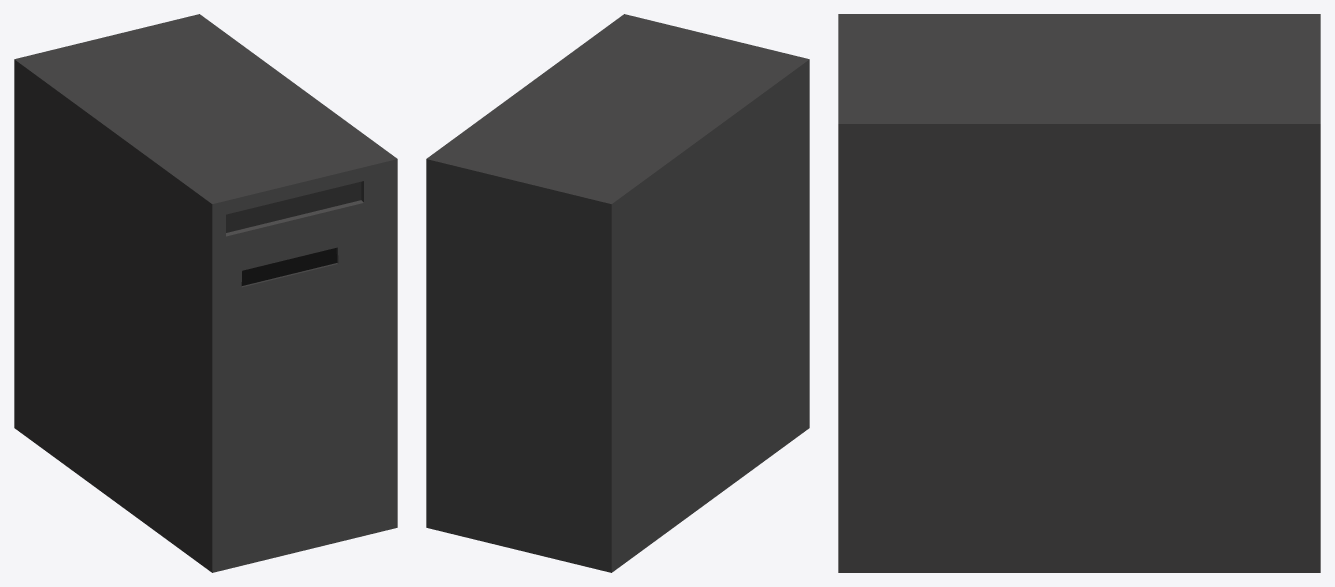
Rendered from Computer_3B.fbx.
The picture shows the model from 3 angles, left to right: view 1: azimuth 30°, elevation 25°; view 2: azimuth 150°, elevation 25°; view 3: azimuth 270°, elevation 25°; orthographic projection. The views are drawn at different scales.
Parts seen in each view (by area): view 1: polySurface2115; view 2: polySurface2115; view 3: polySurface2115.
Boxes of the visible parts, x1,y1,x2,y2 form: polySurface2115: (14, 14, 397, 572); polySurface2115: (426, 14, 809, 572); polySurface2115: (838, 14, 1320, 572).
Bounding box in the file's own units: 0.2 × 0.38 × 0.37.
Materials: 1 (1 with a texture image).
